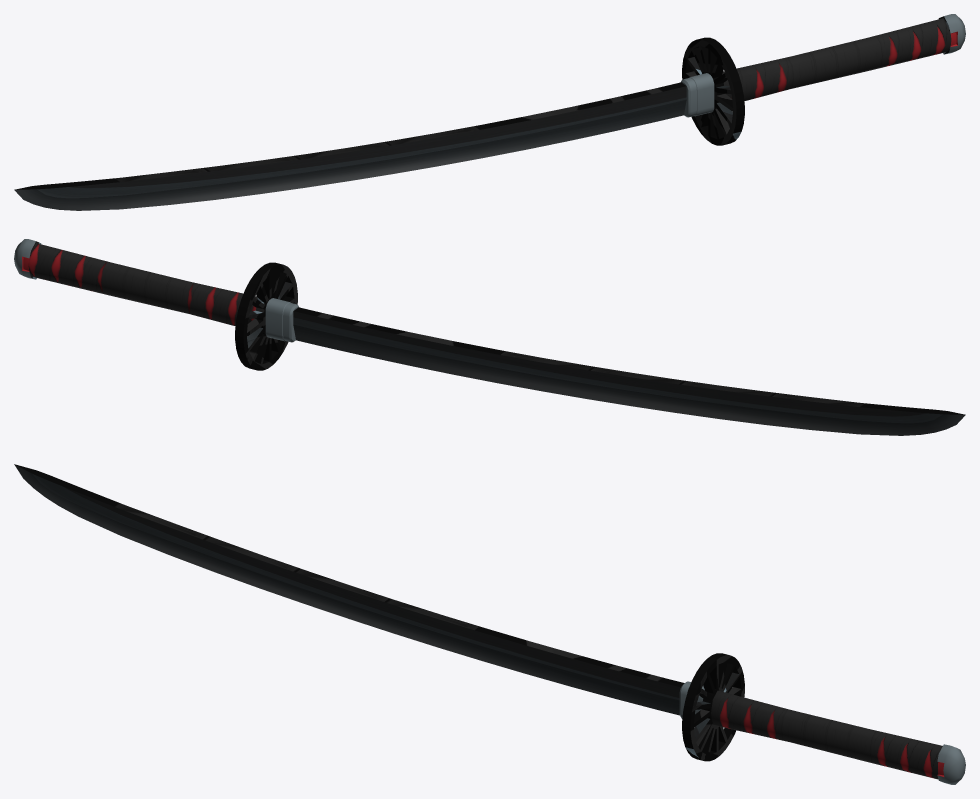
File: black sword.fbx
3 renders of one model, top to bottom at view 1: azimuth 30°, elevation 25°; view 2: azimuth 150°, elevation 25°; view 3: azimuth 330°, elevation 25°, orthographic.
Visible parts, largest first — view 1: object_0.002; view 2: object_0.002; view 3: object_0.002.
Part boxes in pixels (x1=…): object_0.002: x1=14, y1=14, x2=965, y2=210; object_0.002: x1=14, y1=239, x2=965, y2=435; object_0.002: x1=14, y1=464, x2=965, y2=784.
Bounding box in the file's own units: 13.72 × 1.68 × 1.36.
